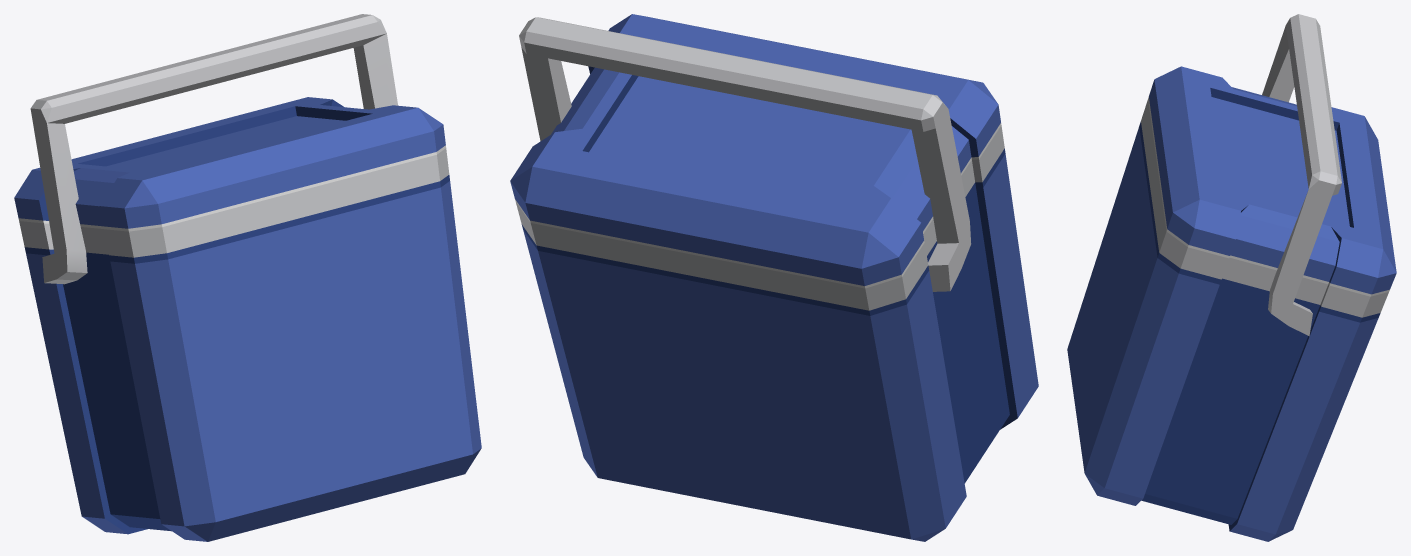
The model's file is Esky_Carried.fbx.
The picture shows the model from 3 angles, left to right: view 1: azimuth 30°, elevation 25°; view 2: azimuth 150°, elevation 25°; view 3: azimuth 270°, elevation 25°; orthographic projection. The views are drawn at different scales.
Parts seen in each view (by area): view 1: esky_esky; view 2: esky_esky; view 3: esky_esky.
Boxes of the visible parts, x1,y1,x2,y2 form: esky_esky: [14, 14, 481, 541]; esky_esky: [510, 14, 1038, 541]; esky_esky: [1067, 14, 1396, 541].
Size of the model in its own units: 51.34 by 58.61 by 44.55.
